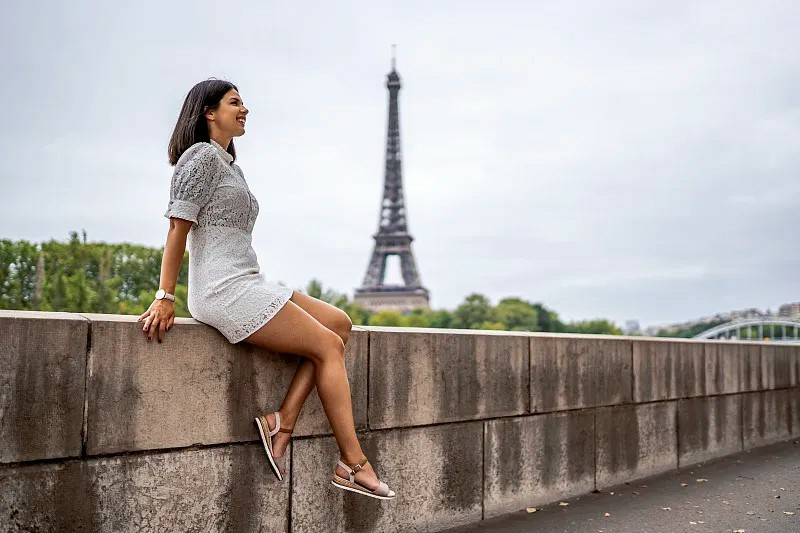Eiffel: (352, 44, 433, 314)
